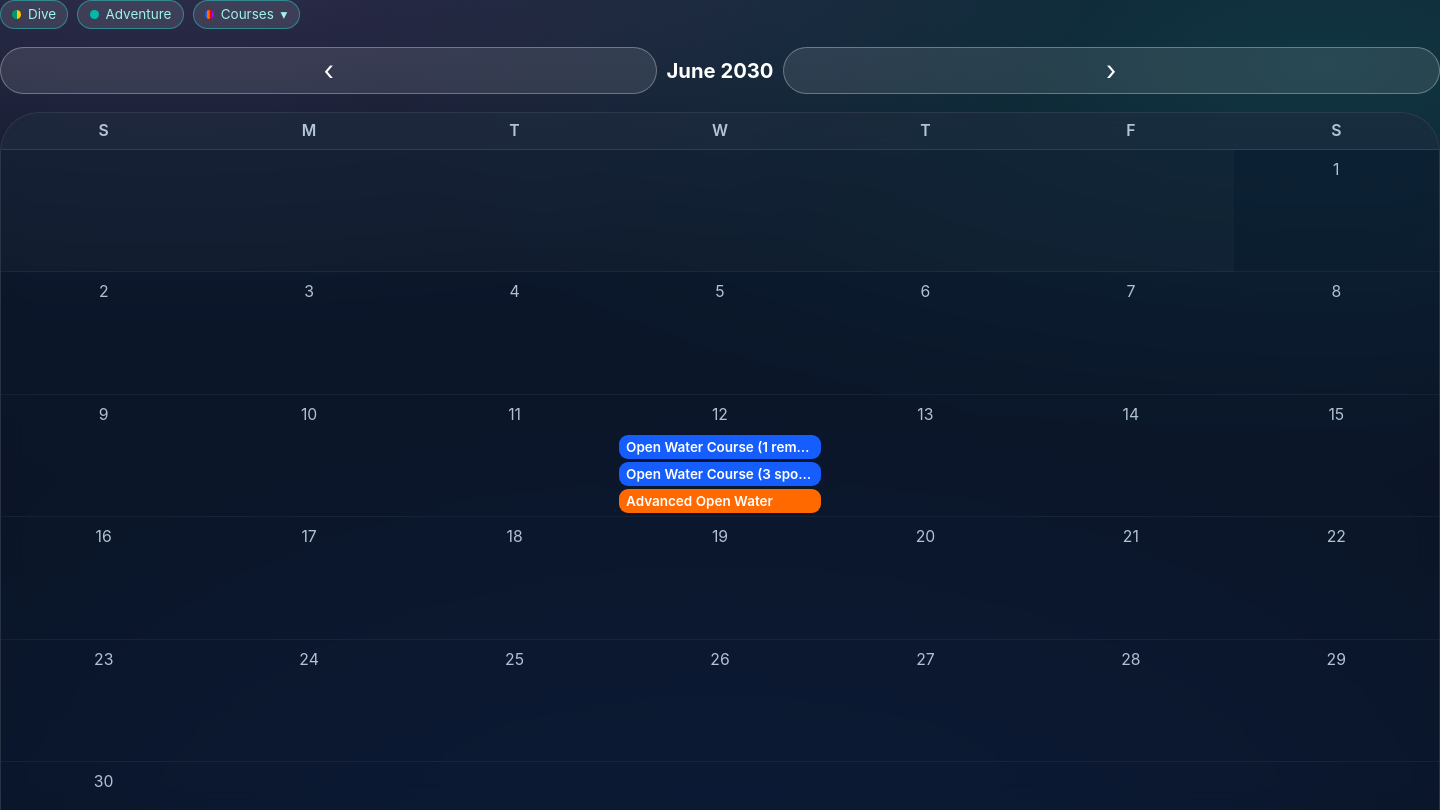
it: MonthCalendar course filter › hides every offering of a type when its category is toggled off
The image size is (1440, 810).
Expected: the button titled "Open Water Course (1 remaining)" is shown, left=619, top=436, right=821, bottom=460
Expected: the button titled "Open Water Course (3 spots open)" is shown, left=619, top=462, right=821, bottom=486
Click the button with aria-label "Filter courses" at (246, 14), box left=193, top=0, right=300, bottom=29
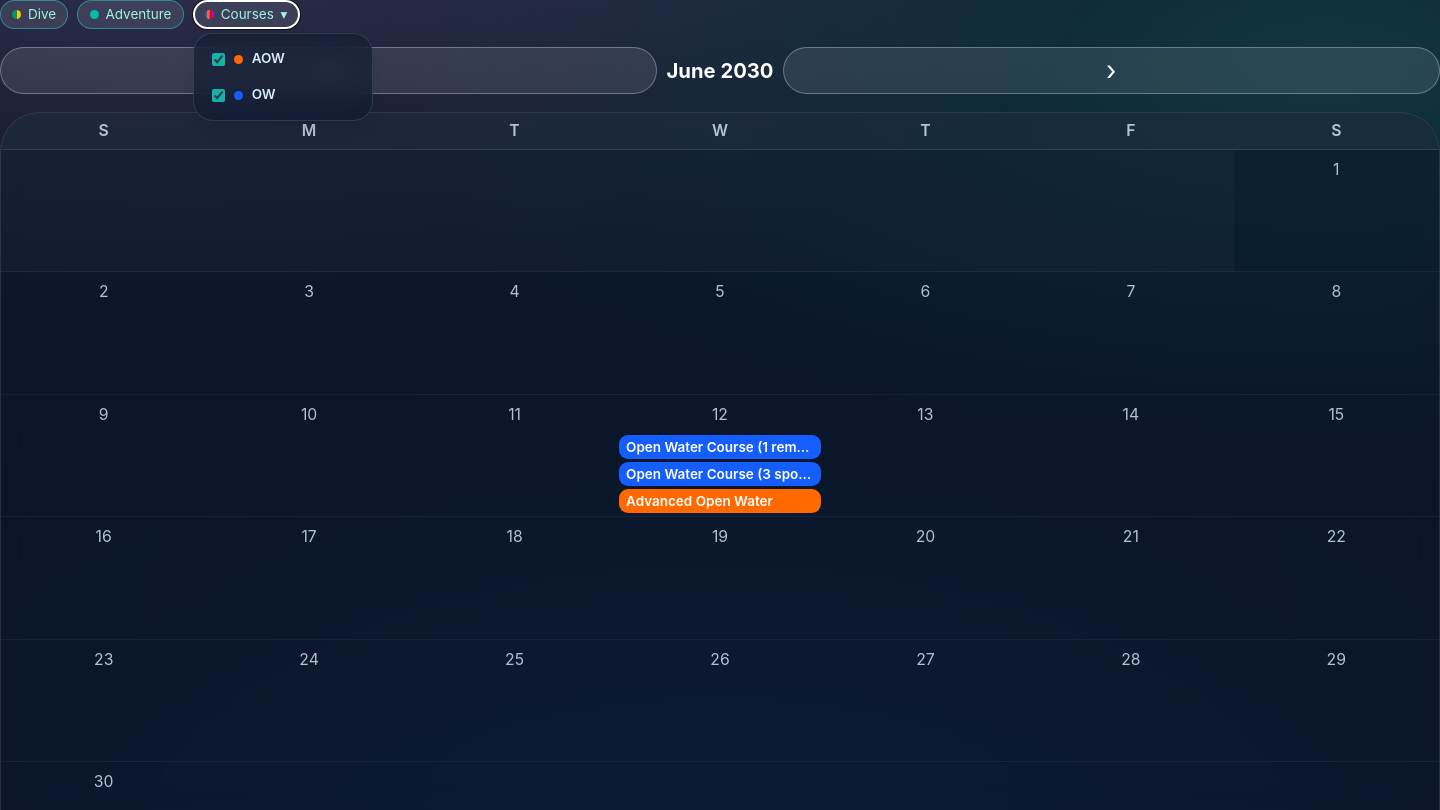
Click the checkbox labelled "OW" at (218, 95), box left=212, top=89, right=225, bottom=102
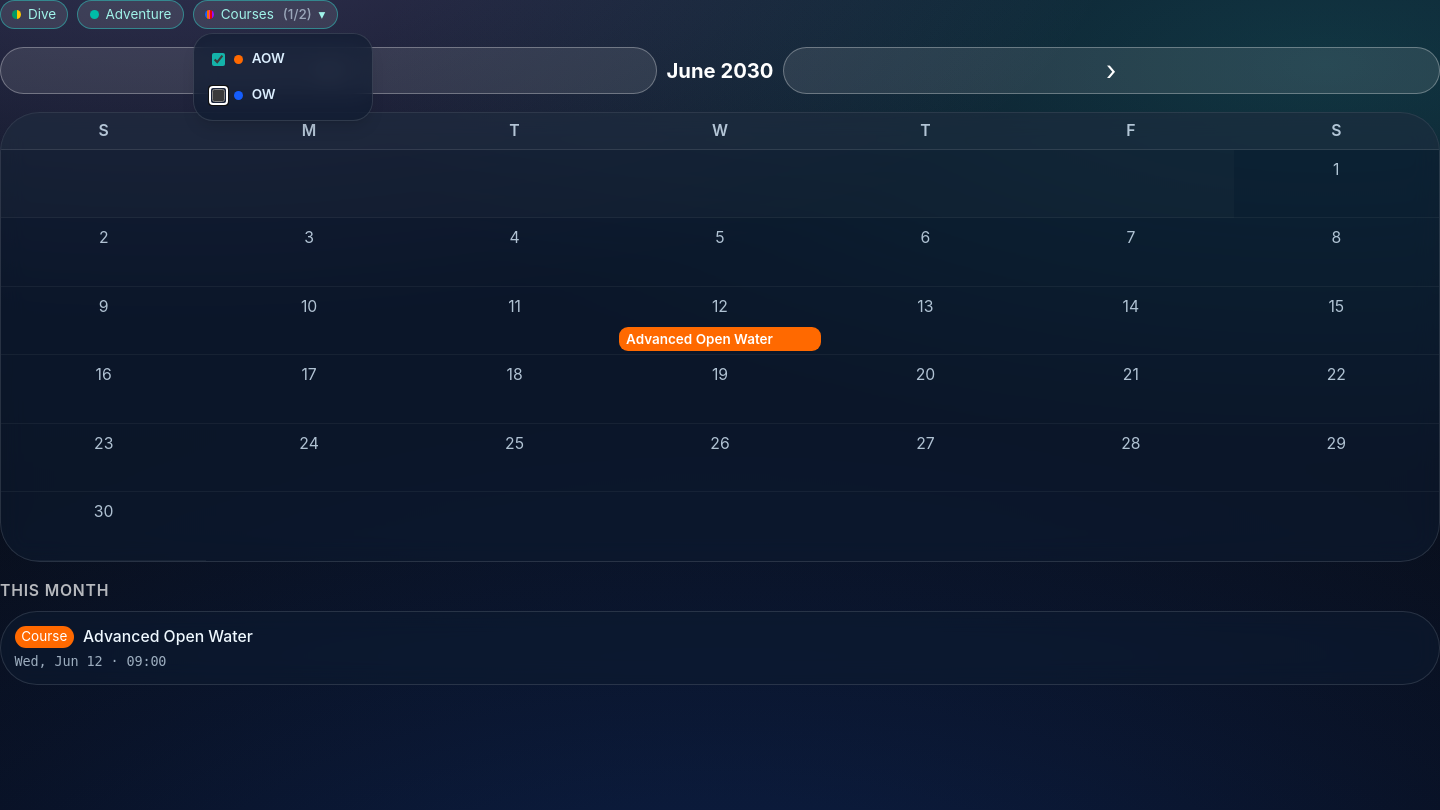
Expected: the button titled "Advanced Open Water" is shown, left=619, top=328, right=821, bottom=352
Result: the button titled "Open Water Course (1 remaining)" is gone
Result: the button titled "Open Water Course (3 spots open)" is gone
